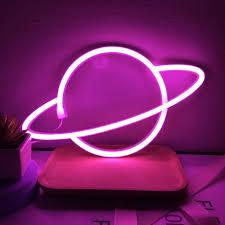Lamp: (19, 38, 210, 161)
